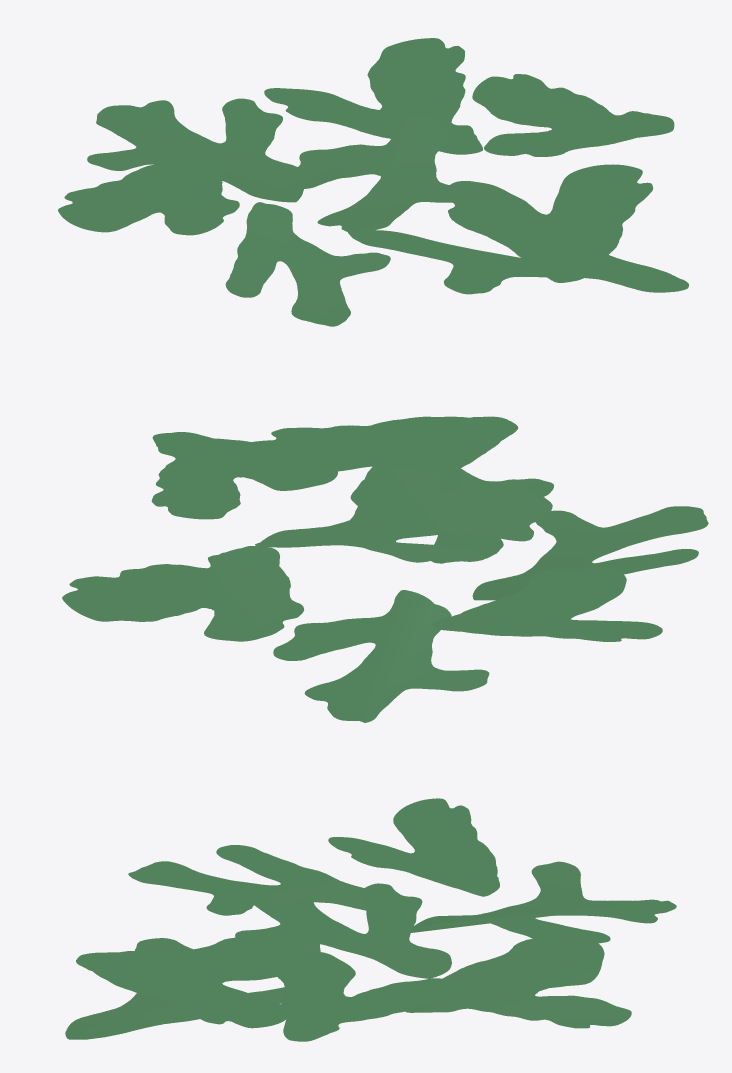
Rendered from liverwort.fbx.
The picture shows the model from 3 angles, top to bottom: view 1: azimuth 30°, elevation 25°; view 2: azimuth 150°, elevation 25°; view 3: azimuth 270°, elevation 25°; orthographic projection. The views are drawn at different scales.
Visible parts, largest first — view 1: liverwort_LOD_0; view 2: liverwort_LOD_0; view 3: liverwort_LOD_0.
Part boxes in pixels (<box>): liverwort_LOD_0: <box>58,38,688,326</box>; liverwort_LOD_0: <box>62,416,708,722</box>; liverwort_LOD_0: <box>65,798,676,1041</box>.
Size of the model in its own units: 50.71 by 4.67 by 51.06.
Materials: 1 (1 with a texture image).
